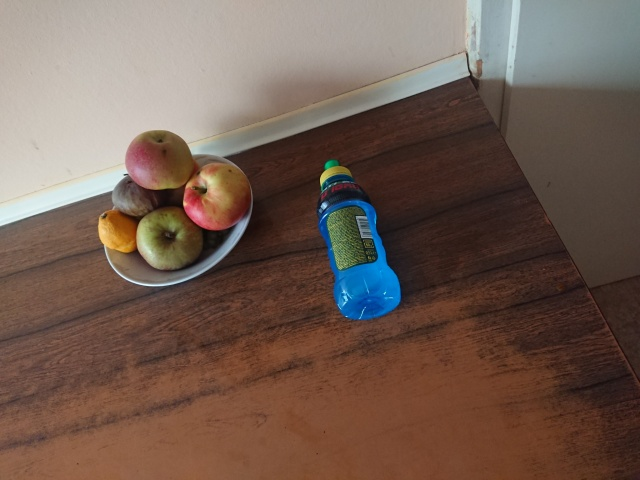Vindi Iso Sport Forest Strawberries 500mL: (315, 157, 402, 323)
